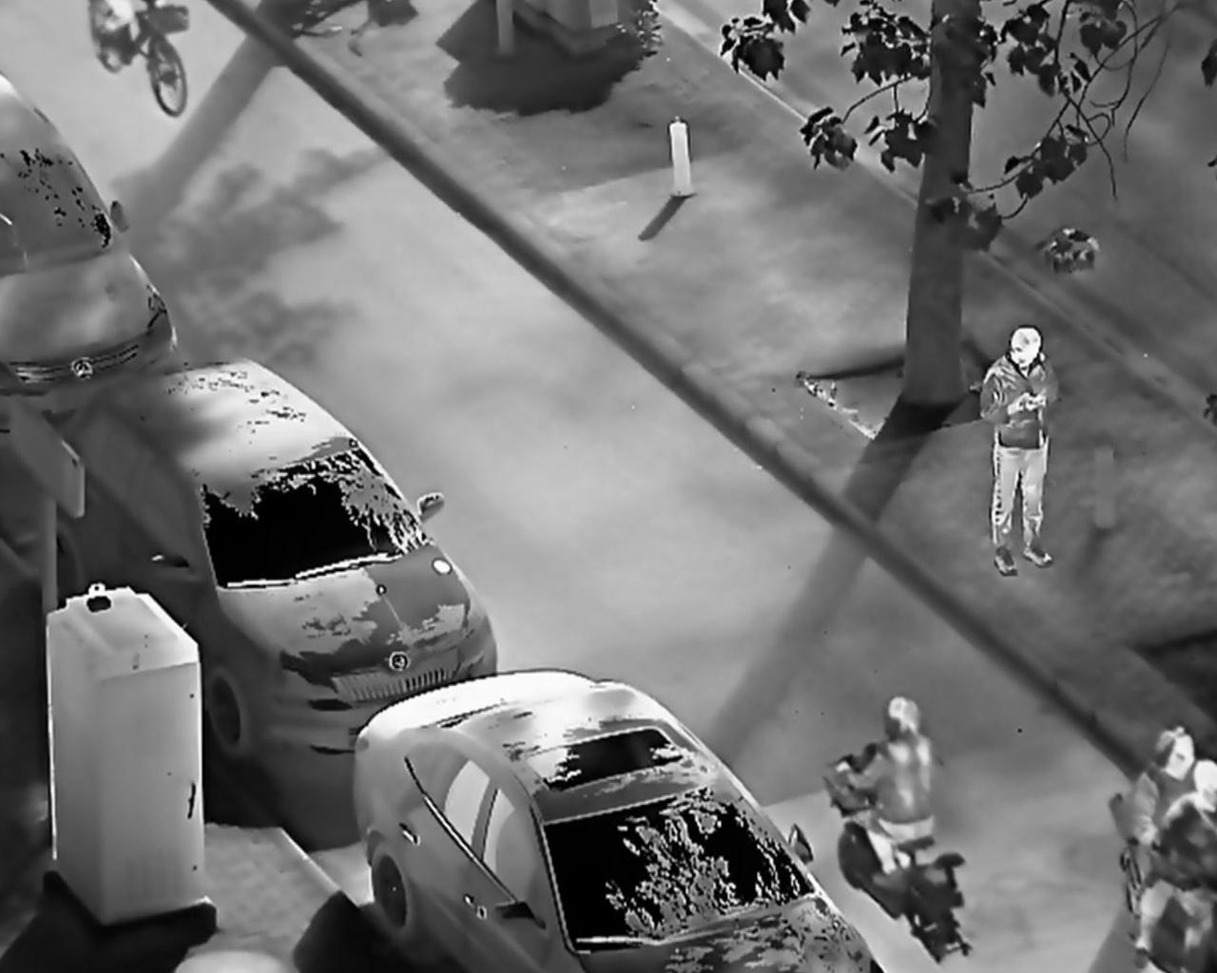person: (976, 320, 1060, 580), (1119, 718, 1208, 945), (844, 691, 939, 876)
